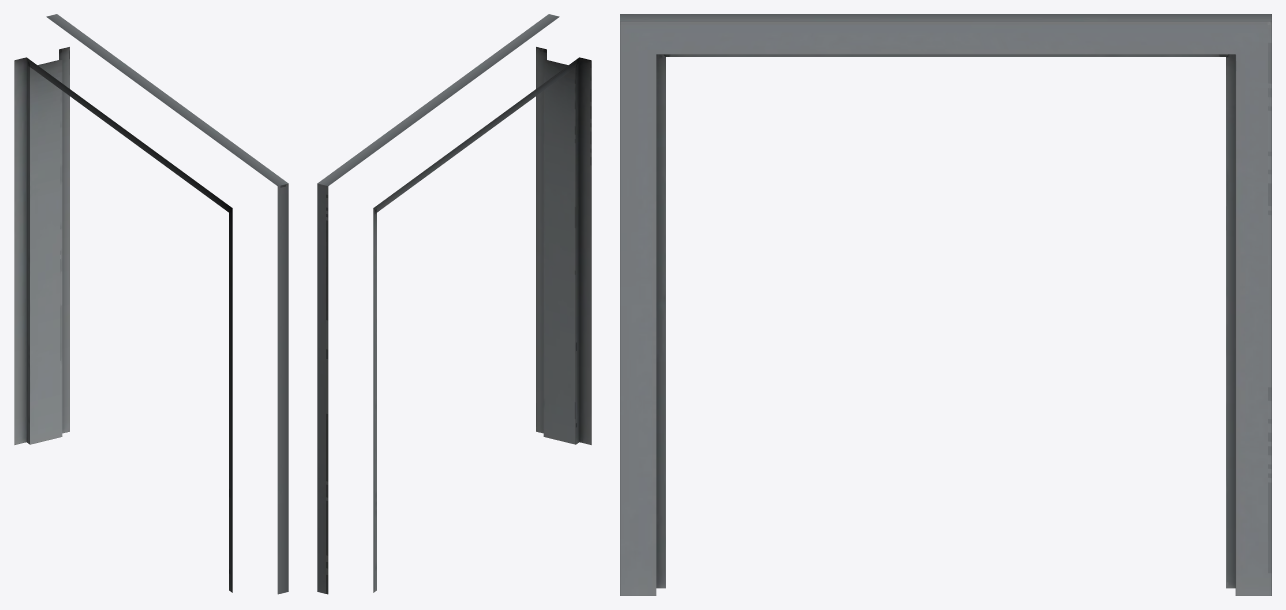
3 renders of one model, left to right at view 1: azimuth 30°, elevation 25°; view 2: azimuth 150°, elevation 25°; view 3: azimuth 270°, elevation 25°, orthographic. The views are drawn at different scales.
Parts seen in each view (by area): view 1: body0_model0_lod0_mesh0; view 2: body0_model0_lod0_mesh0; view 3: body0_model0_lod0_mesh0.
Boxes of the visible parts, <box> form: body0_model0_lod0_mesh0: <box>14,14,288,594</box>; body0_model0_lod0_mesh0: <box>317,14,591,594</box>; body0_model0_lod0_mesh0: <box>620,14,1271,595</box>.
Bounding box in the file's own units: 20 × 140 × 144.
1 material, 1 textured.
